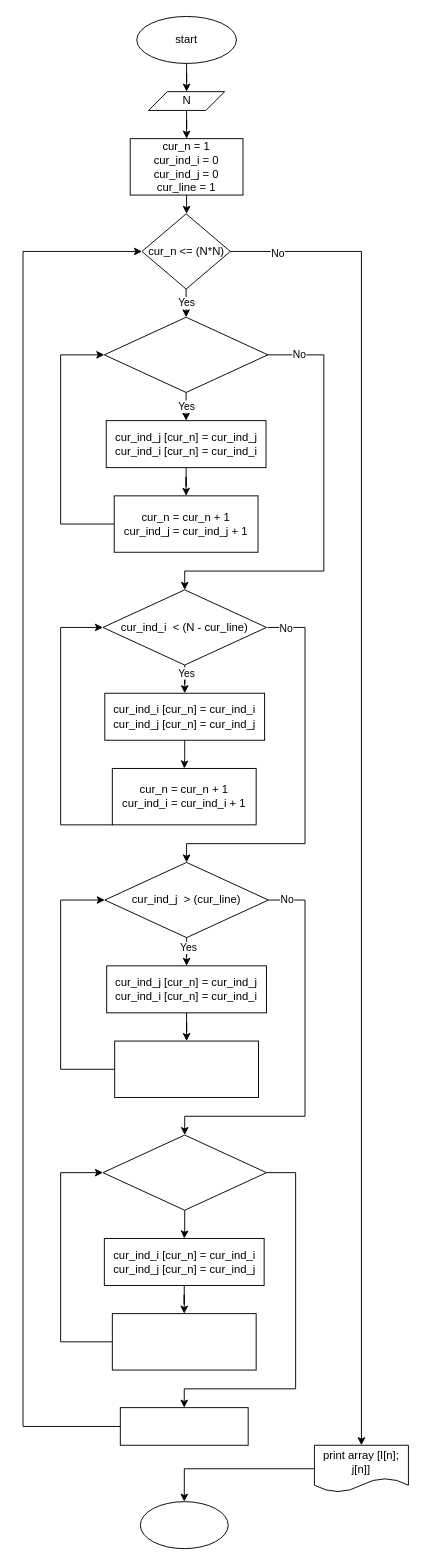
Some shapes in this 425 by 1565 pixel diagram are drawn without their labels. Each missing label, with the centre of its shape:
cur_ind_i > (-1 + cur_line): (x=184, y=1172)
cur_ind_j < (N - cur_line): (x=185, y=354)
cur_line = cur_line + 1: (x=183, y=1426)
cur_n = cur_n + 1 cur_ind_i = cur_ind_i - 1: (x=183, y=1341)
cur_n = cur_n + 1 cur_ind_j = cur_ind_j - 1: (x=186, y=1068)
End: (x=183, y=1525)
